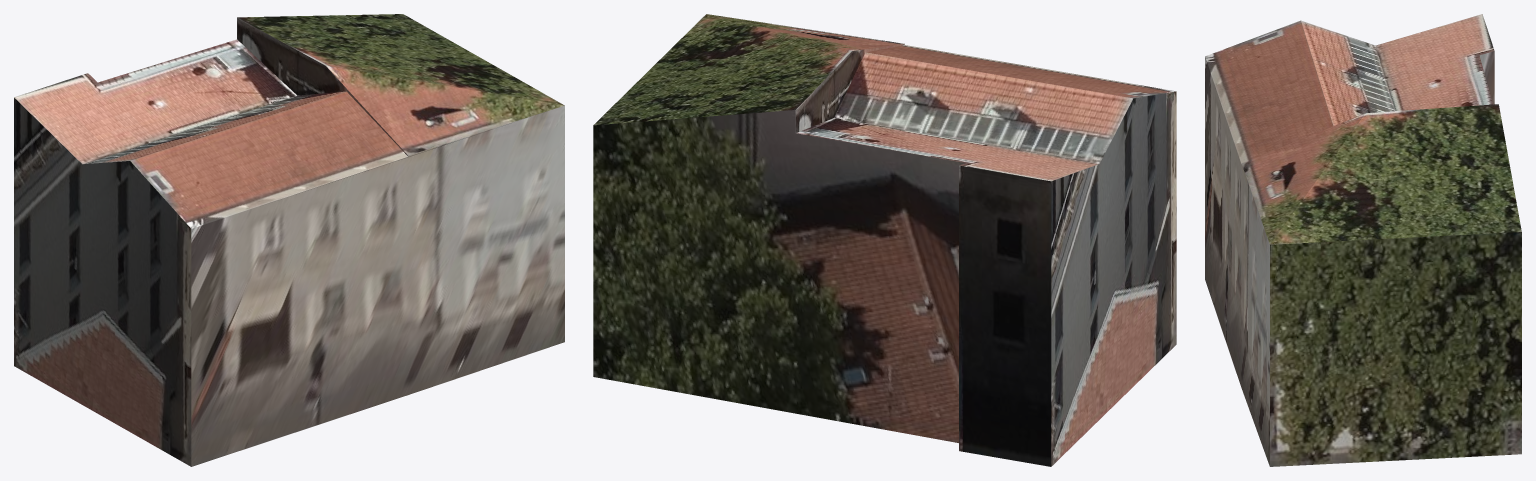
3 views of the same model, side by side, from view 1: azimuth 30°, elevation 25°; view 2: azimuth 150°, elevation 25°; view 3: azimuth 270°, elevation 25° (orthographic). The views are drawn at different scales.
Visible parts, largest first — view 1: Z_UP; view 2: Z_UP; view 3: Z_UP.
Part boxes in pixels (<box>): Z_UP: <box>14,14,564,466</box>; Z_UP: <box>593,14,1176,466</box>; Z_UP: <box>1205,14,1521,466</box>.
Bounding box in the file's own units: 18.69 × 11.66 × 12.47.
Materials: 2 (1 with a texture image).
